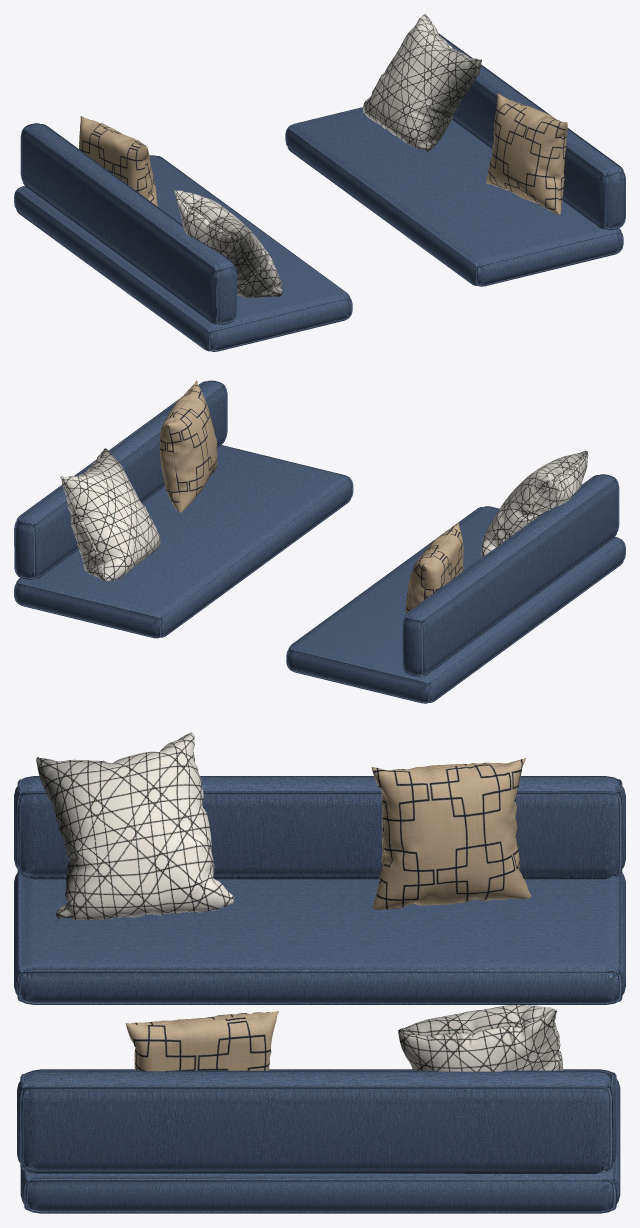
File: cushion-two.glb
The picture shows the model from 3 angles, top to bottom: view 1: azimuth 30°, elevation 25°; view 2: azimuth 150°, elevation 25°; view 3: azimuth 270°, elevation 25°; orthographic projection. The views are drawn at different scales.
Visible parts, largest first — view 1: trunk_part_39.003; view 2: trunk_part_39.003; view 3: trunk_part_39.003.
Part boxes in pixels (x1,y1,x2,y2): trunk_part_39.003: [14, 14, 625, 351]; trunk_part_39.003: [14, 380, 625, 703]; trunk_part_39.003: [14, 732, 625, 1213].
Bounding box in the file's own units: 1.71 × 0.4689 × 1.39.
Materials: 3 (3 with a texture image).
